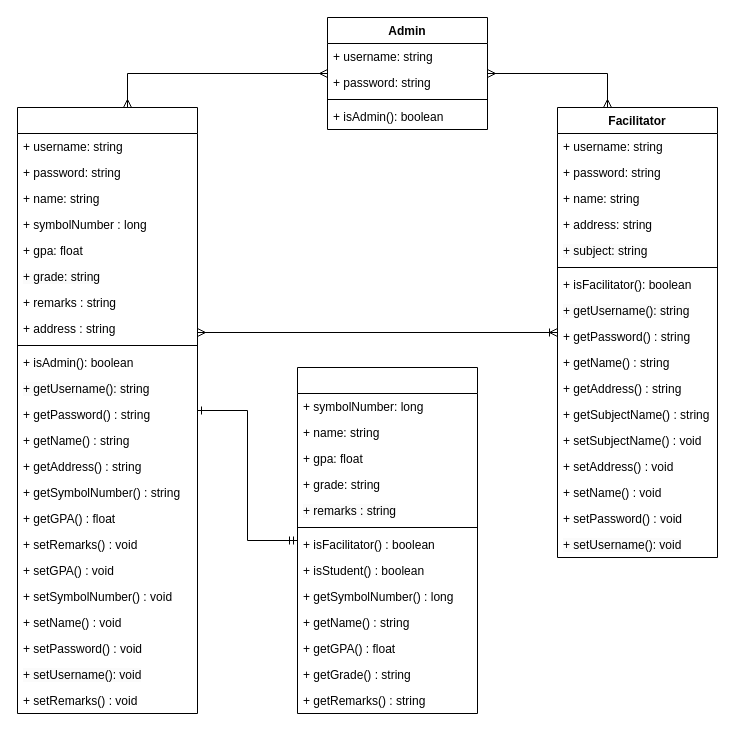
This 735x734 diagram has some shape labels left out. Each missing label, with the box of its shape:
Certificate: (296, 366, 478, 714)
Student: (16, 106, 198, 714)
